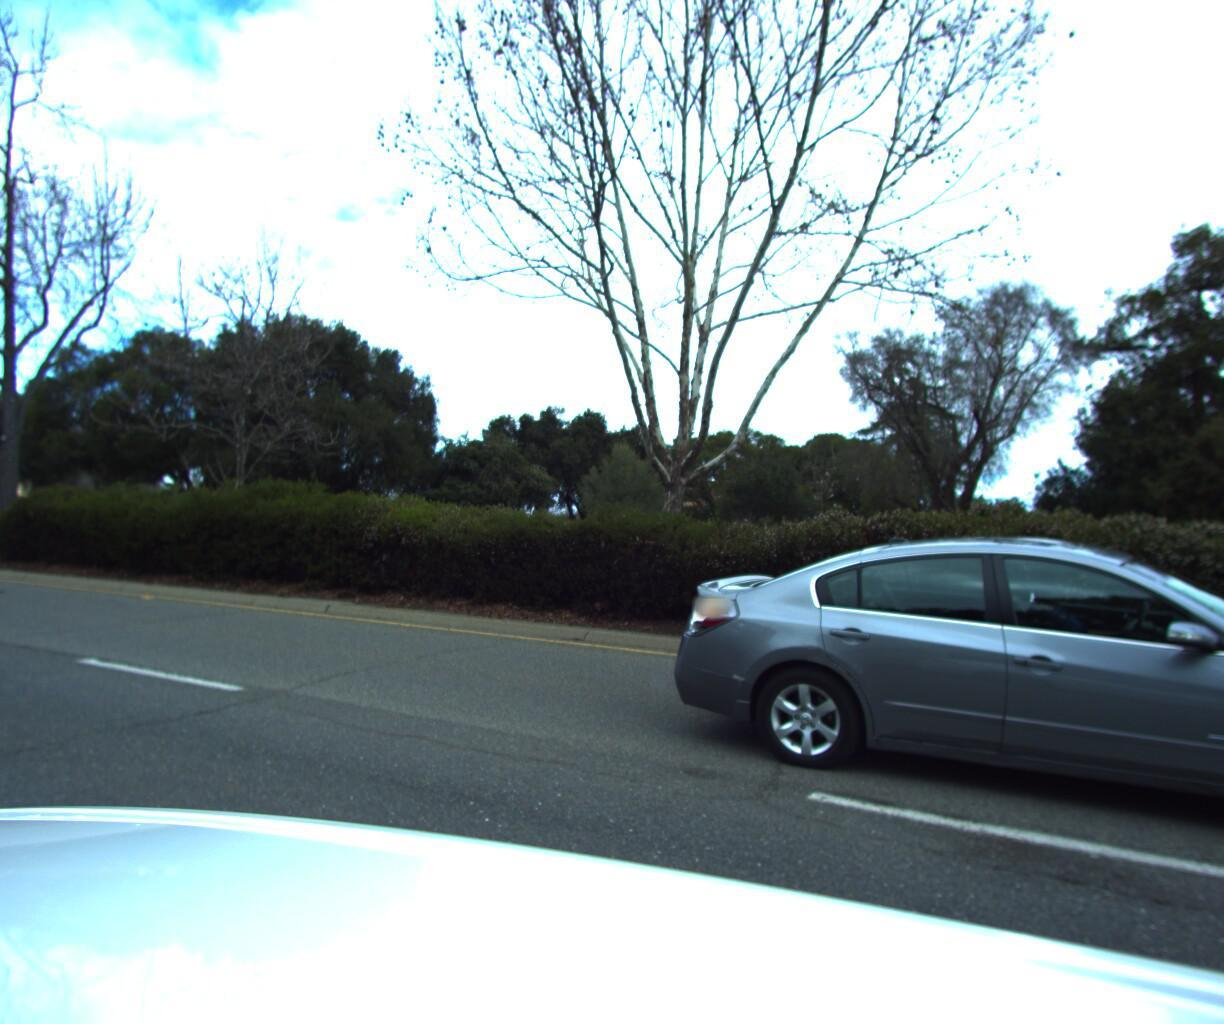car: (631, 516, 1224, 891)
